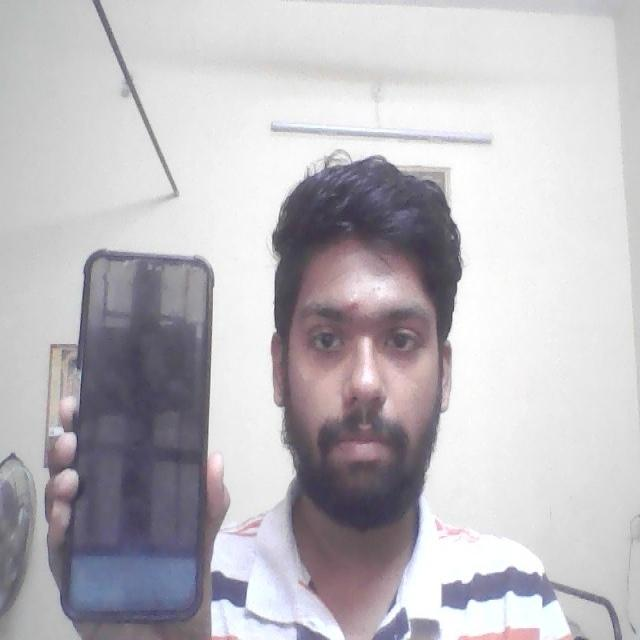Mobile: (61, 242, 221, 625)
